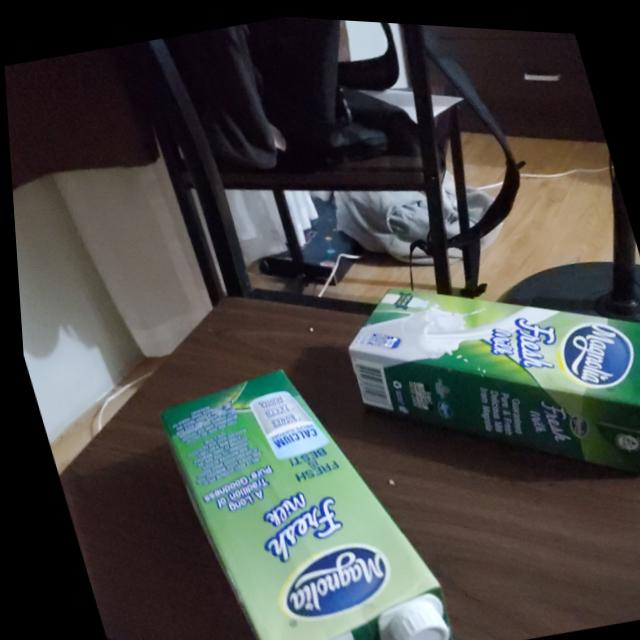milk: (317, 222, 640, 528), (137, 338, 456, 640)
